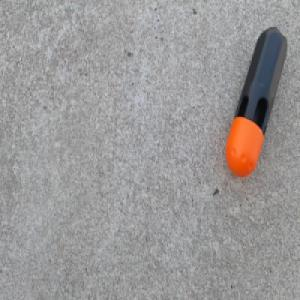PlasticPart: (224, 23, 288, 179)
